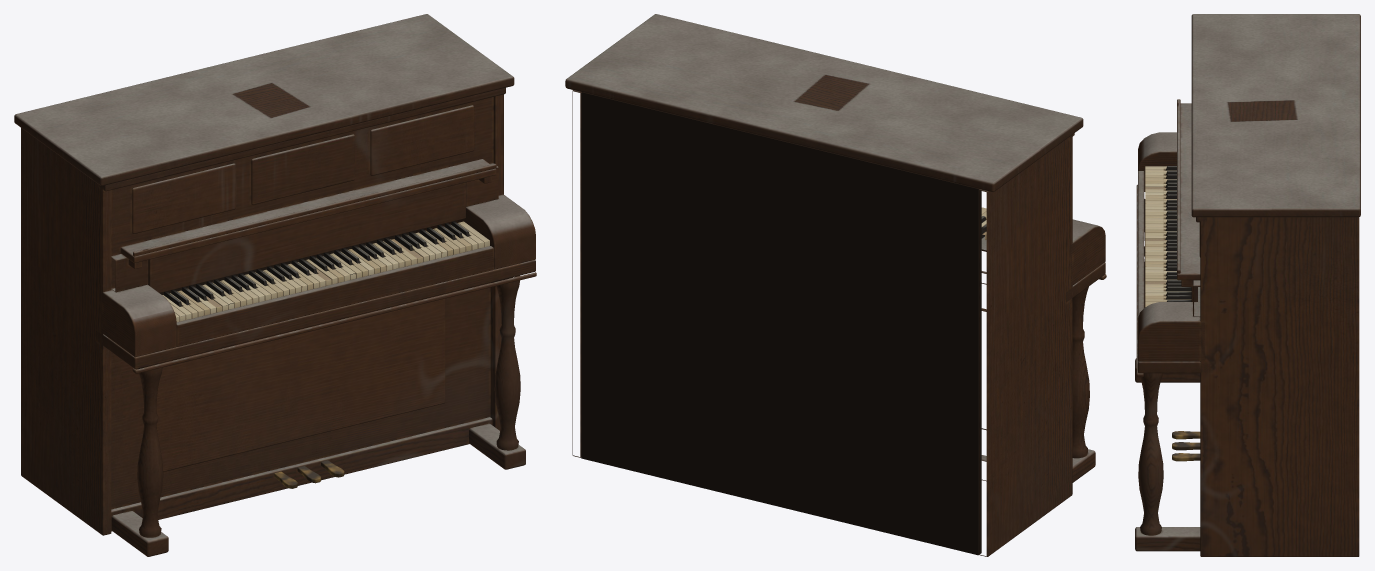
Rendered from piano.glb.
3 views of the same model, side by side, from view 1: azimuth 30°, elevation 25°; view 2: azimuth 150°, elevation 25°; view 3: azimuth 270°, elevation 25° (orthographic). The views are drawn at different scales.
Visible parts, largest first — view 1: case, lid, fallboard; view 2: back, lid, case; view 3: case, lid.
Boxes of the visible parts, x1,y1,x2,y2 form: case: (21,87,536,556); lid: (14,14,514,185); fallboard: (148,182,465,292); back: (581,92,981,555); lid: (565,14,1083,192); case: (572,90,1106,556); case: (1135,99,1359,556); lid: (1191,14,1360,217).
Size of the model in its own units: 1.6 by 1.34 by 0.78.
3 materials, 2 textured.
